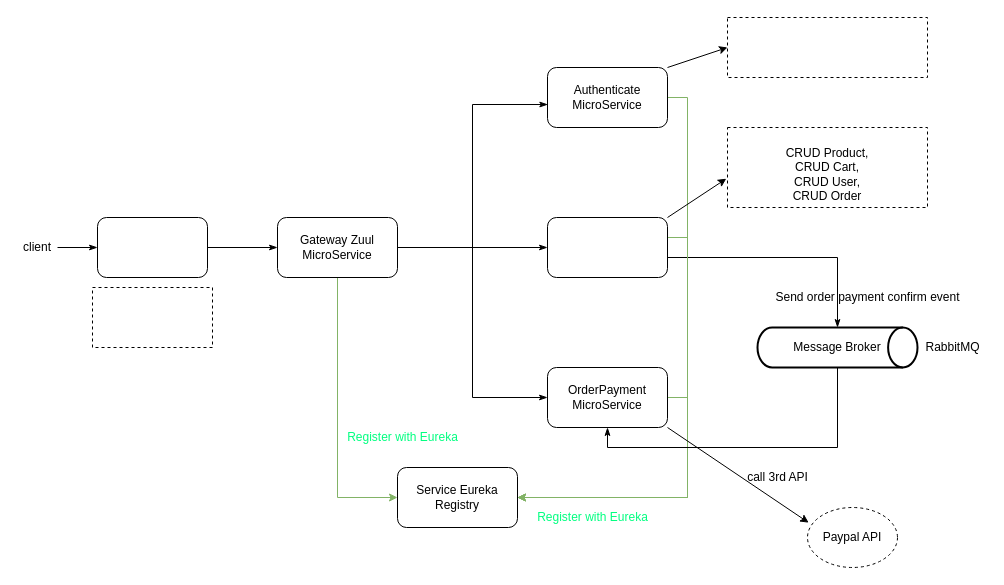
Image size: 1004x585. Some labels were removed from this diagram. Here are the shapes that lost their labels. From the top down, the centre of each, then its label:
At (827,47): "Validating user credential Issuing tokens JWT".
At (152,247): "UI".
At (607,247): "Main MicroService".
At (152,317): "Serve static content: HTML, CSS".
